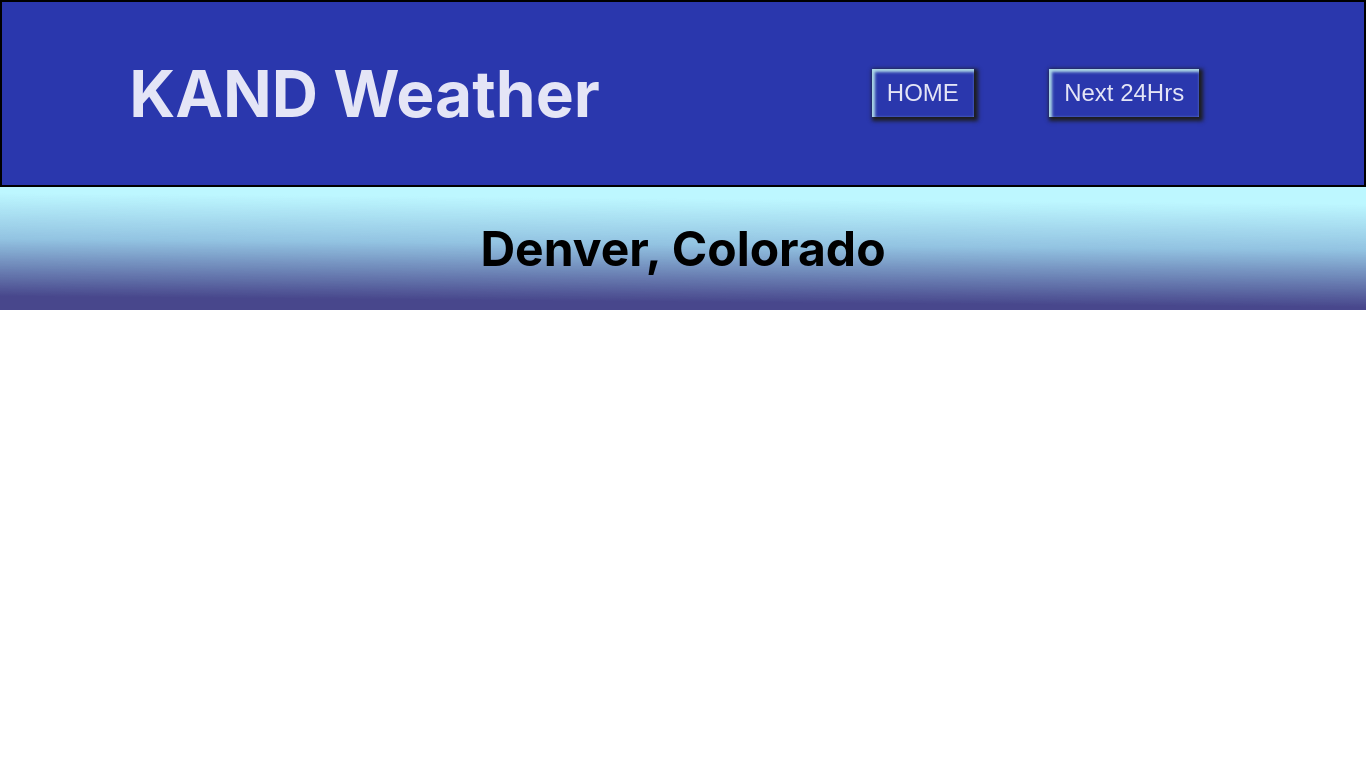
dom-testing.cy.js › Should get the next 24 hours weather info on click of the 24 hour button
This screenshot has width=1366, height=768.
Click the link with class "nav-link" showing "Next 24Hrs": (1124, 93) [1049, 69, 1199, 117]
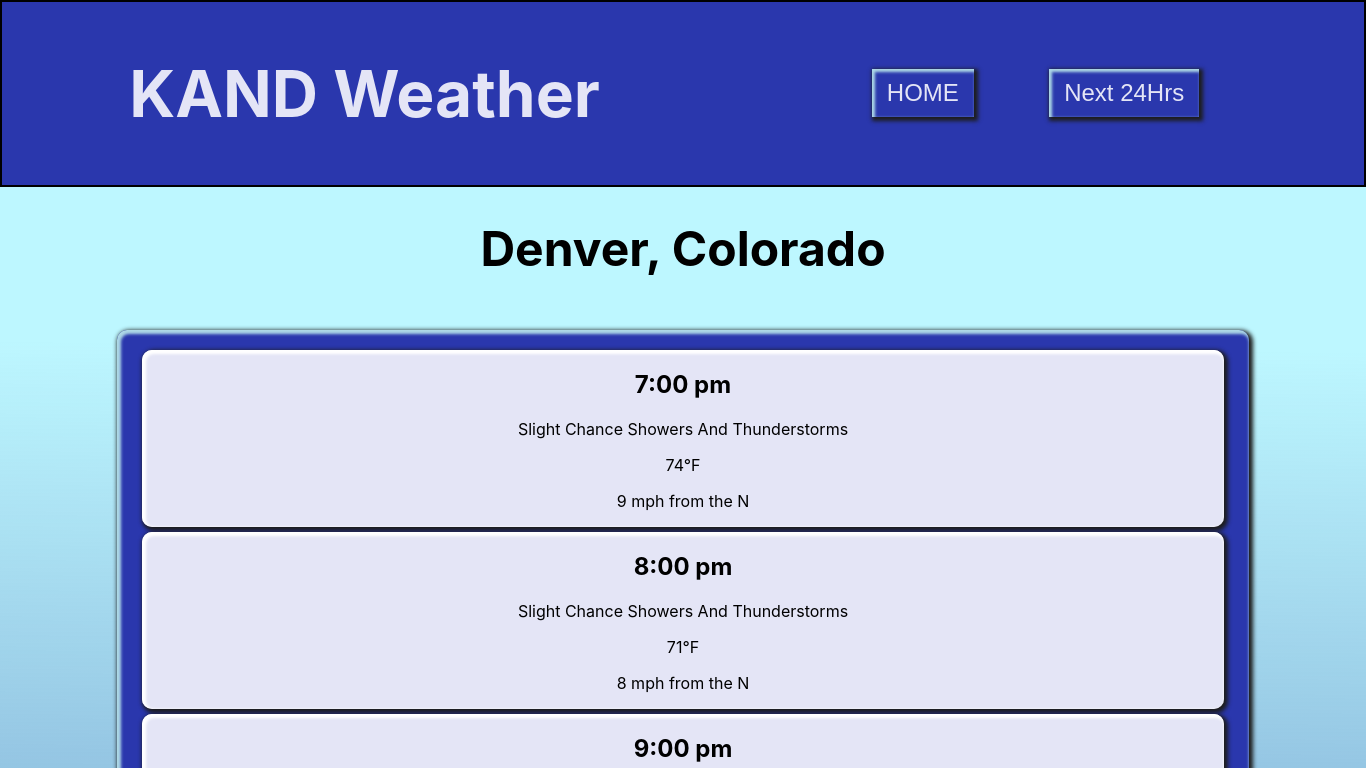
Expected: the number of elements with class "hour-details" is 6
